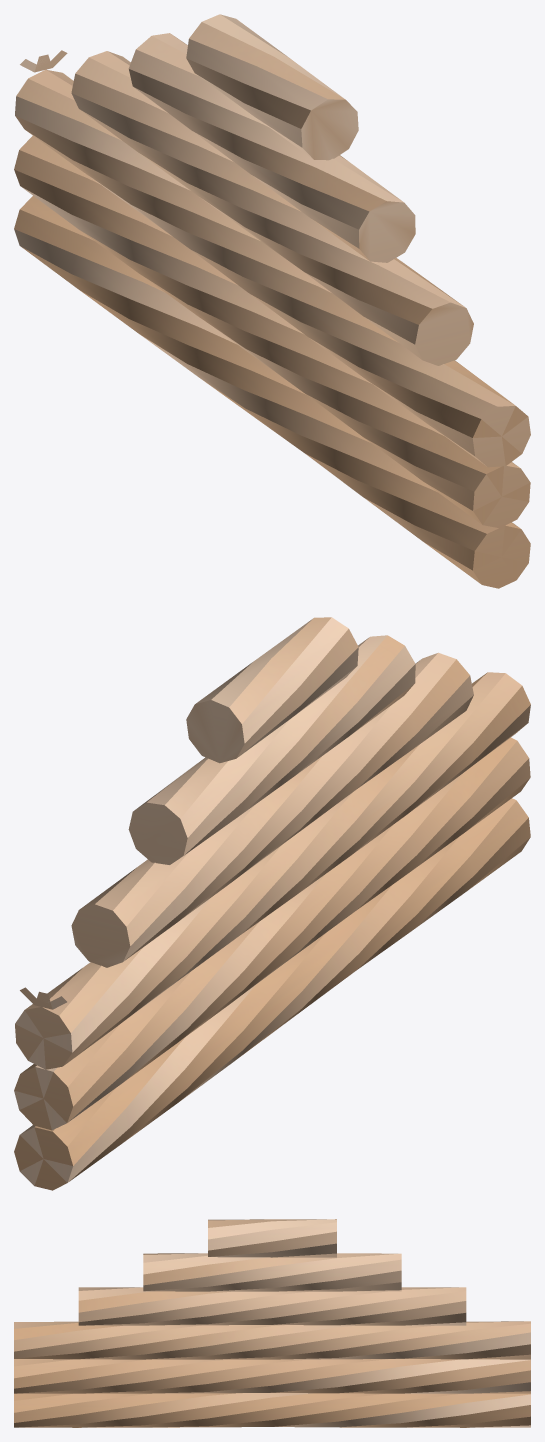
The model's file is WallThirdFront_whole.fbx.
3 views of the same model, one above another, from view 1: azimuth 30°, elevation 25°; view 2: azimuth 150°, elevation 25°; view 3: azimuth 270°, elevation 25° (orthographic). The views are drawn at different scales.
Visible parts, largest first — view 1: g_wall15; view 2: g_wall15; view 3: g_wall15.
Part boxes in pixels (x1,y1,x2,y2): g_wall15: [14, 14, 530, 588]; g_wall15: [14, 617, 530, 1190]; g_wall15: [14, 1219, 530, 1427].
Bounding box in the file's own units: 0.3705 × 2.17 × 4.96.
